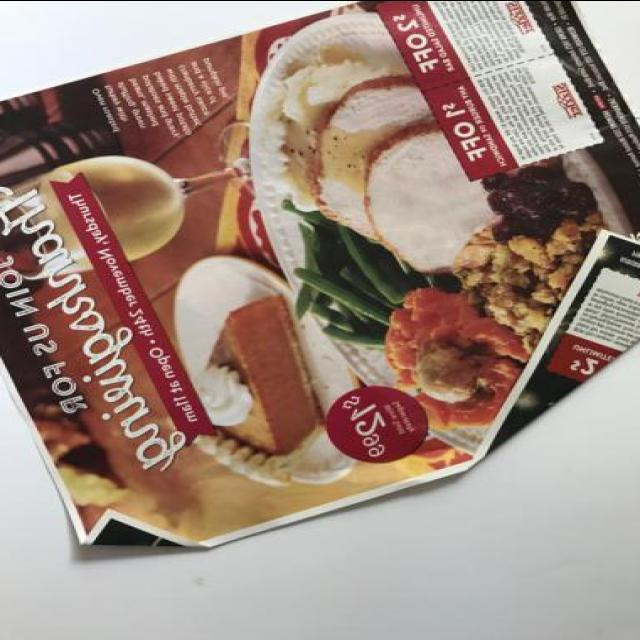kertas: (0, 0, 640, 548)
